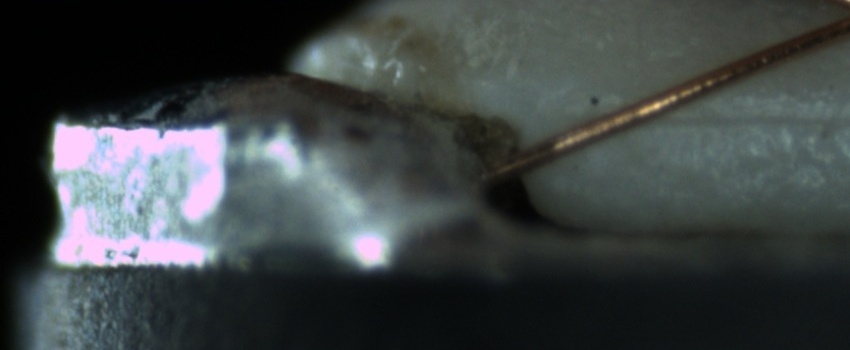DL: (619, 81, 847, 152)
